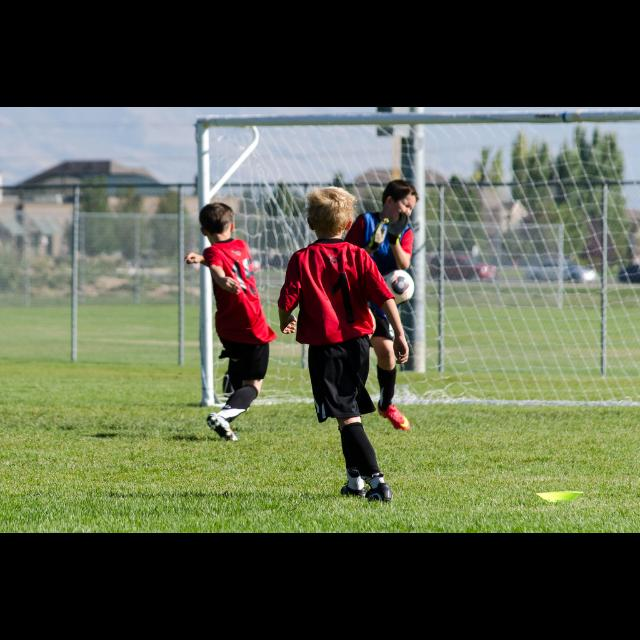Football: (378, 268, 410, 304)
